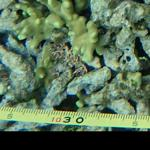dead: (1, 1, 149, 131)
